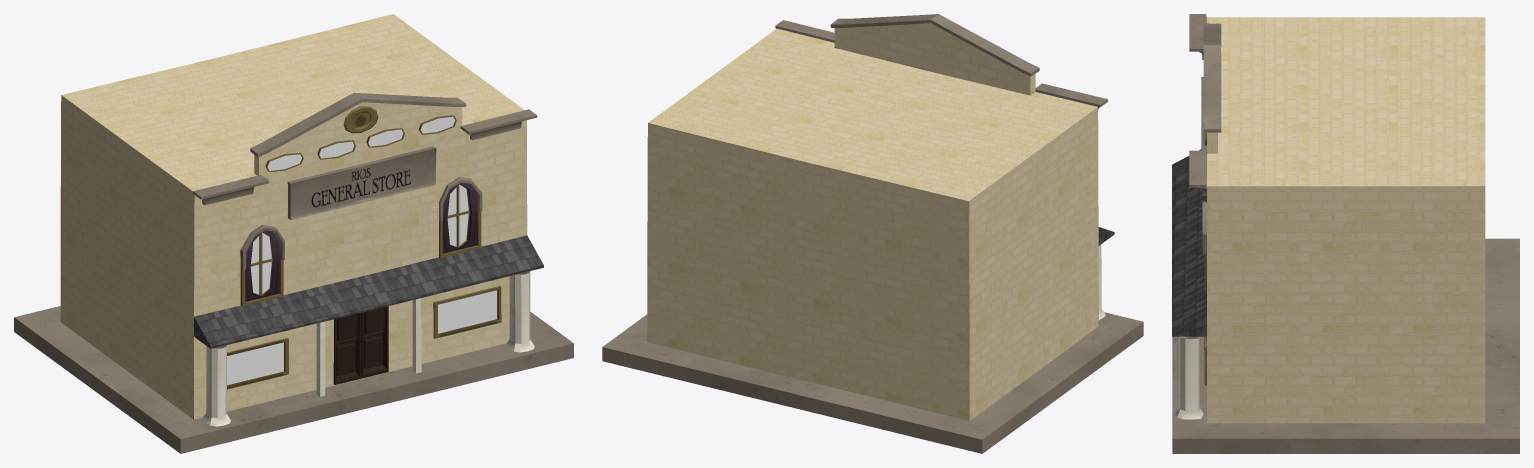
The model's file is GeneralStoreModel.fbx.
3 views of the same model, side by side, from view 1: azimuth 30°, elevation 25°; view 2: azimuth 150°, elevation 25°; view 3: azimuth 270°, elevation 25° (orthographic). The views are drawn at different scales.
Parts seen in each view (by area): view 1: pCube5; view 2: pCube5; view 3: pCube5.
Part boxes in pixels (x1,y1,x2,y2): pCube5: (14,14,573,453); pCube5: (602,14,1143,453); pCube5: (1172,14,1519,453).
Bounding box in the file's own units: 10.64 × 7.66 × 7.82.
Materials: 1 (1 with a texture image).
